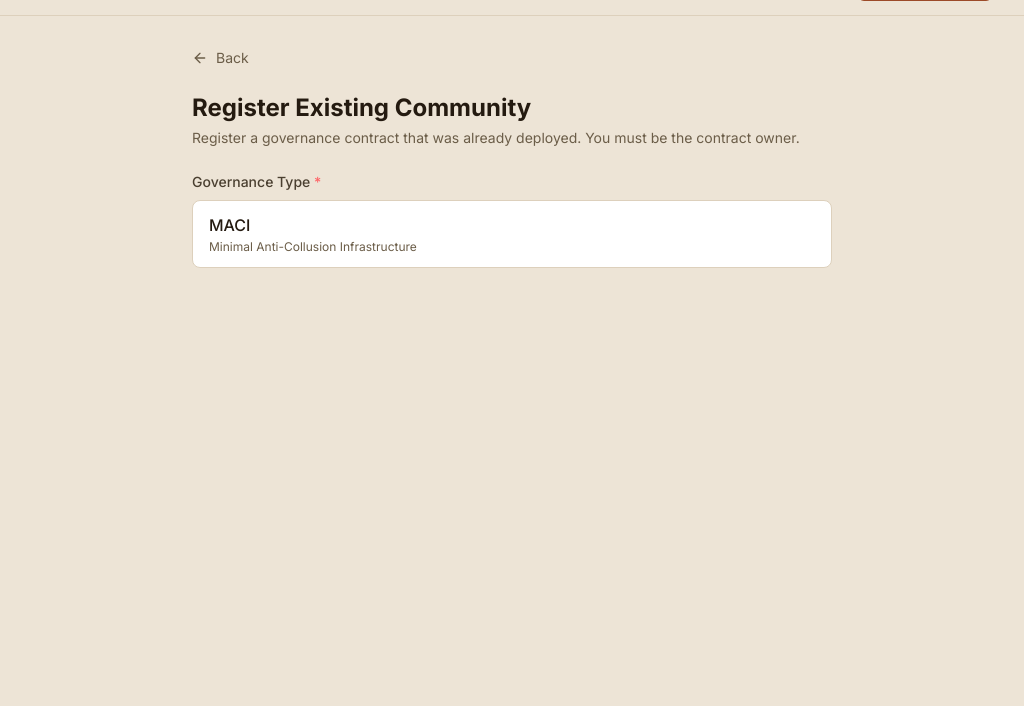
Test case: RegisterCommunityPage › shows 'Session expired' and signs out when registration fails with an expired session (401)
Click the text "MACI". click: (230,225)
box: [209, 215, 250, 235]
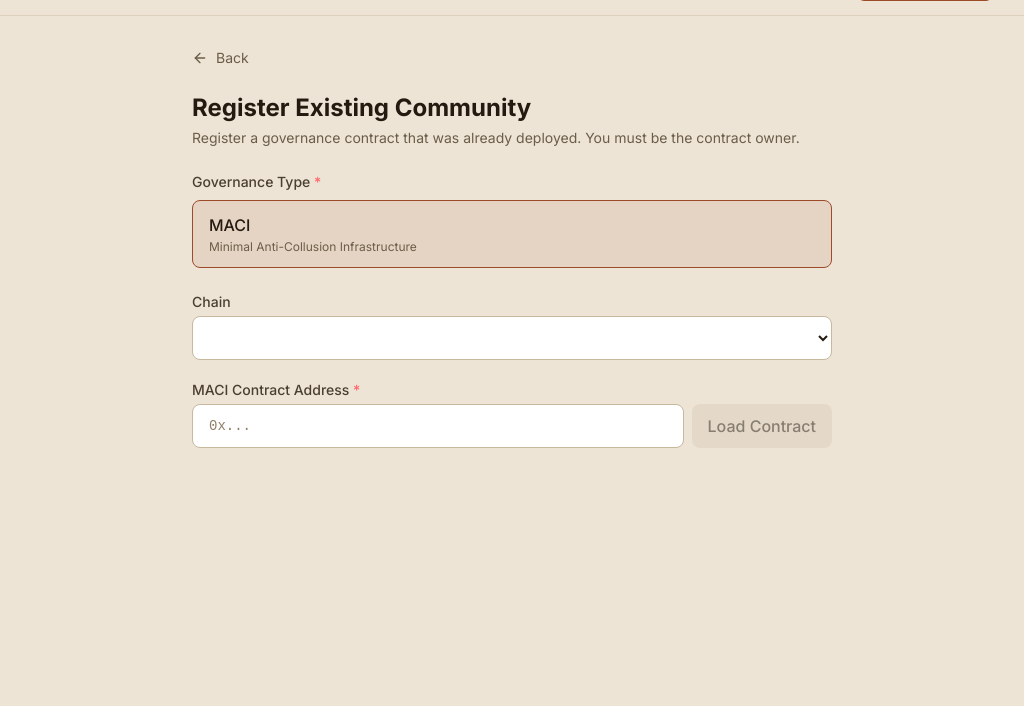
Type "0x1234567890123456789012345678901234567890" into the field with placeholder "0x...". click: (438,426)
box: [192, 404, 684, 448]
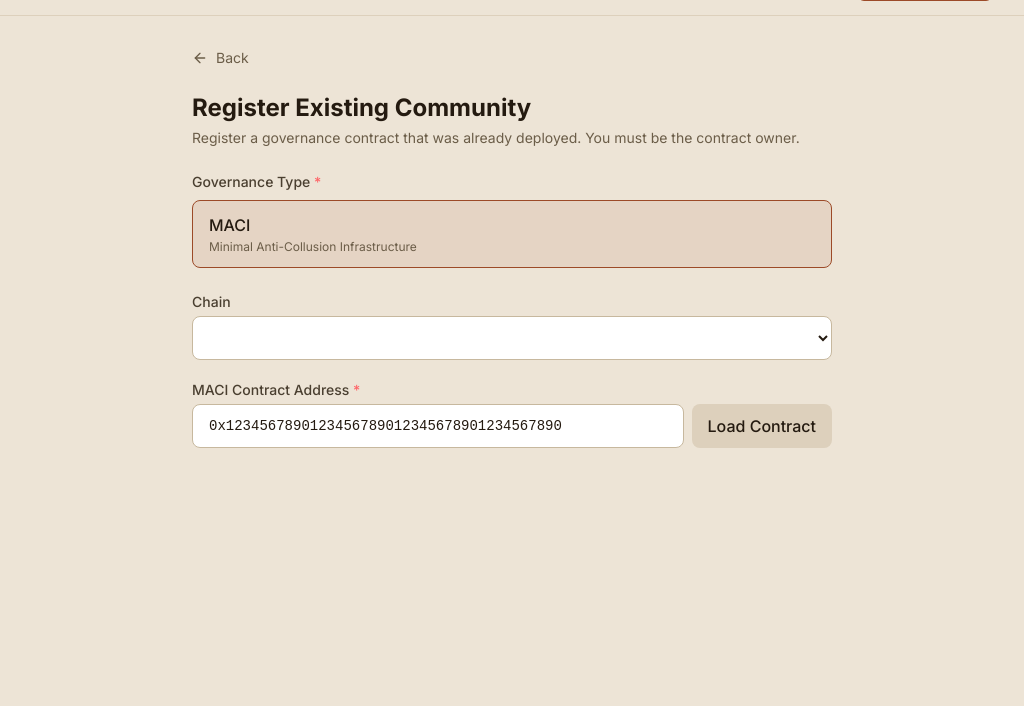
Click the button "Load Contract". click: (762,426)
box: [692, 404, 832, 448]
(page scrolled)
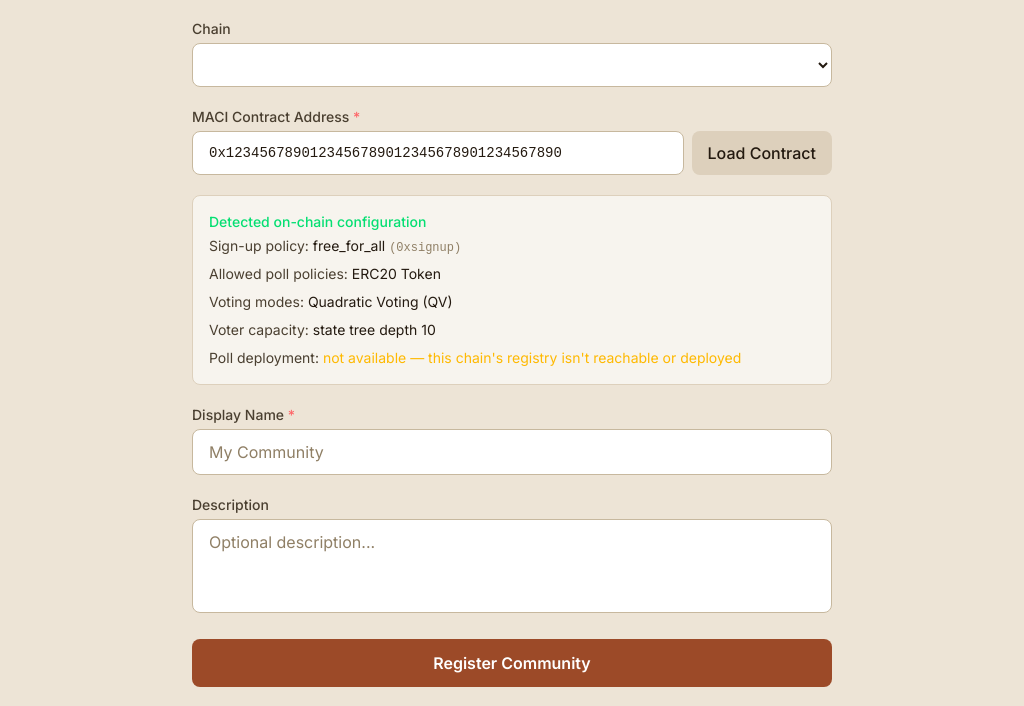
Check: the text "Detected on-chain configuration" is shown, box [209, 213, 426, 230]
Type "Test Community" into the field with placeholder "My Community". click: (512,452)
box: [192, 429, 832, 475]
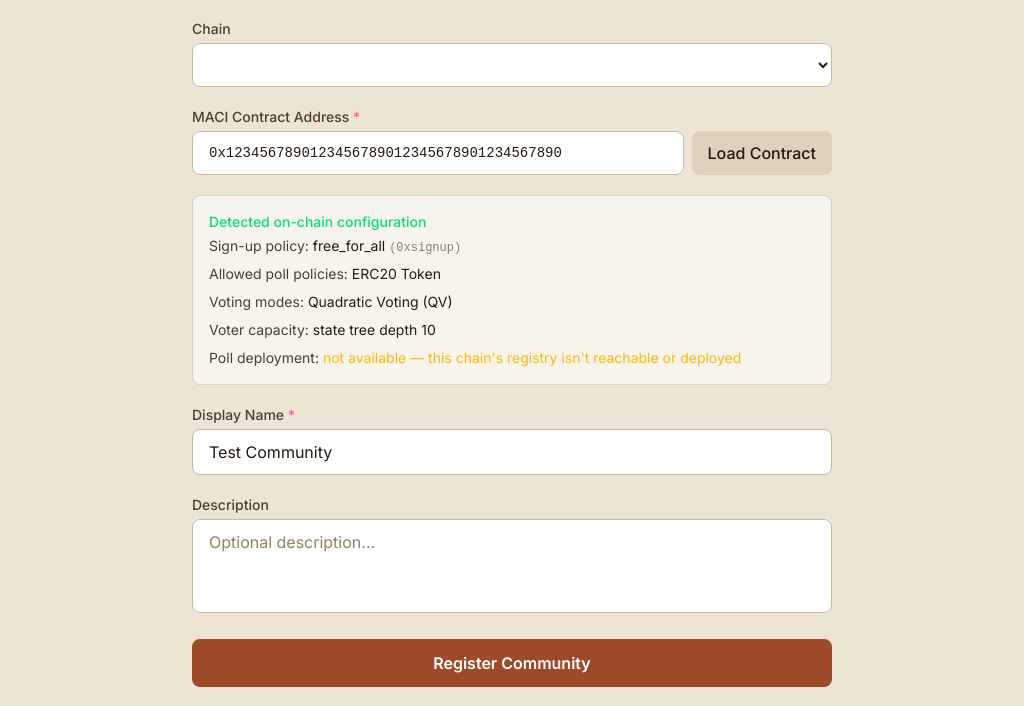
Click the button "Register Community". click: (512,663)
box: [192, 639, 832, 687]
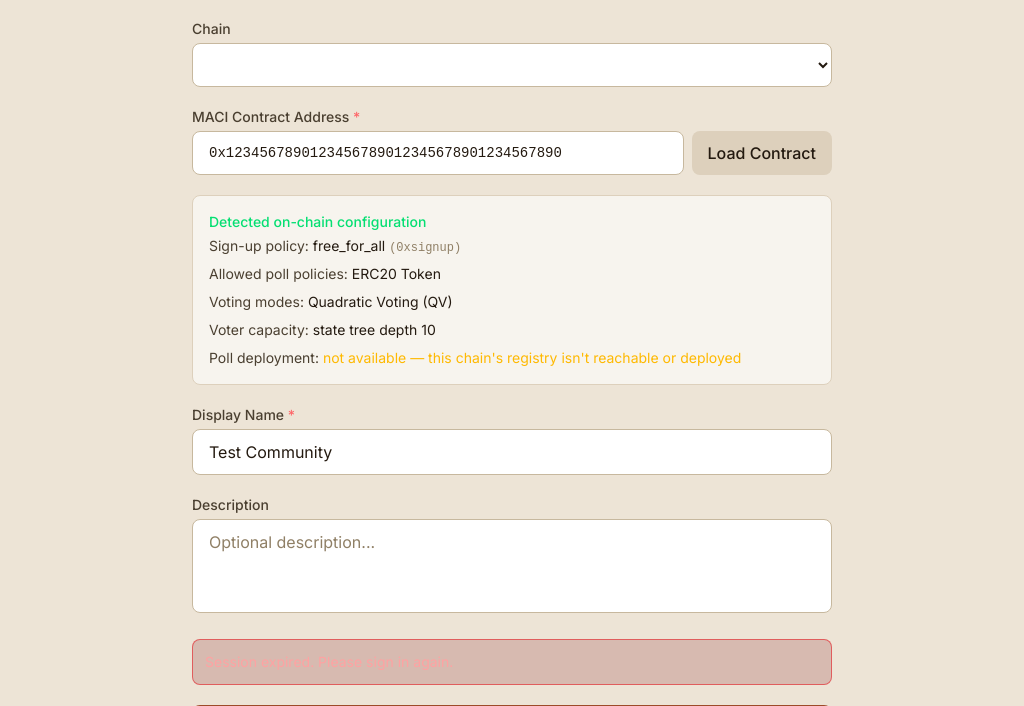
Check: the text "Session expired. Please sign in again." is shown, box [192, 639, 832, 685]
